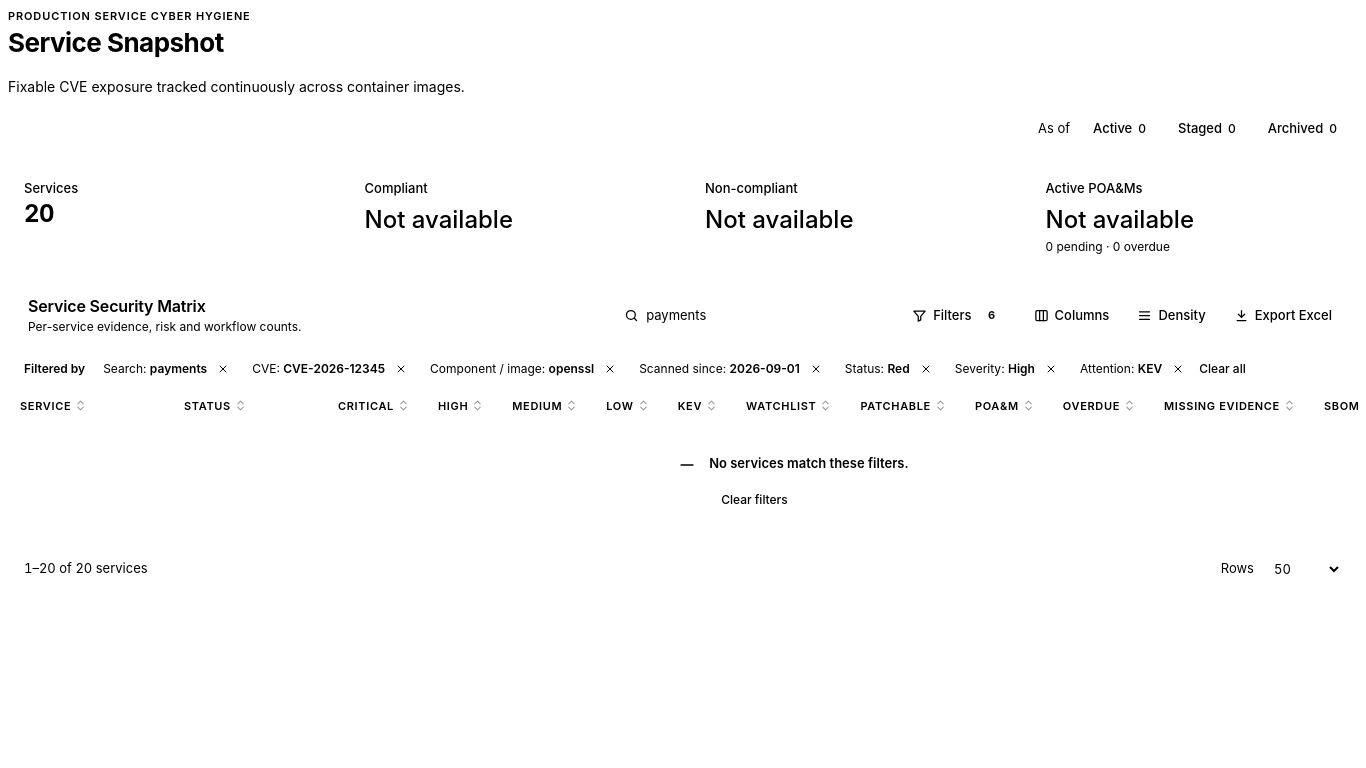
Test: Services security matrix › preserves submitted filters and server portfolio totals independent of filtered rows
This screenshot has width=1366, height=768.
Check: the search field named "Search" holds "payments", box [614,298,894,334]
// One GET form to "/" carries every field, including the toolbar search.
Click the button "Filters 6". click: (959,316)
box: [902,300,1016,332]
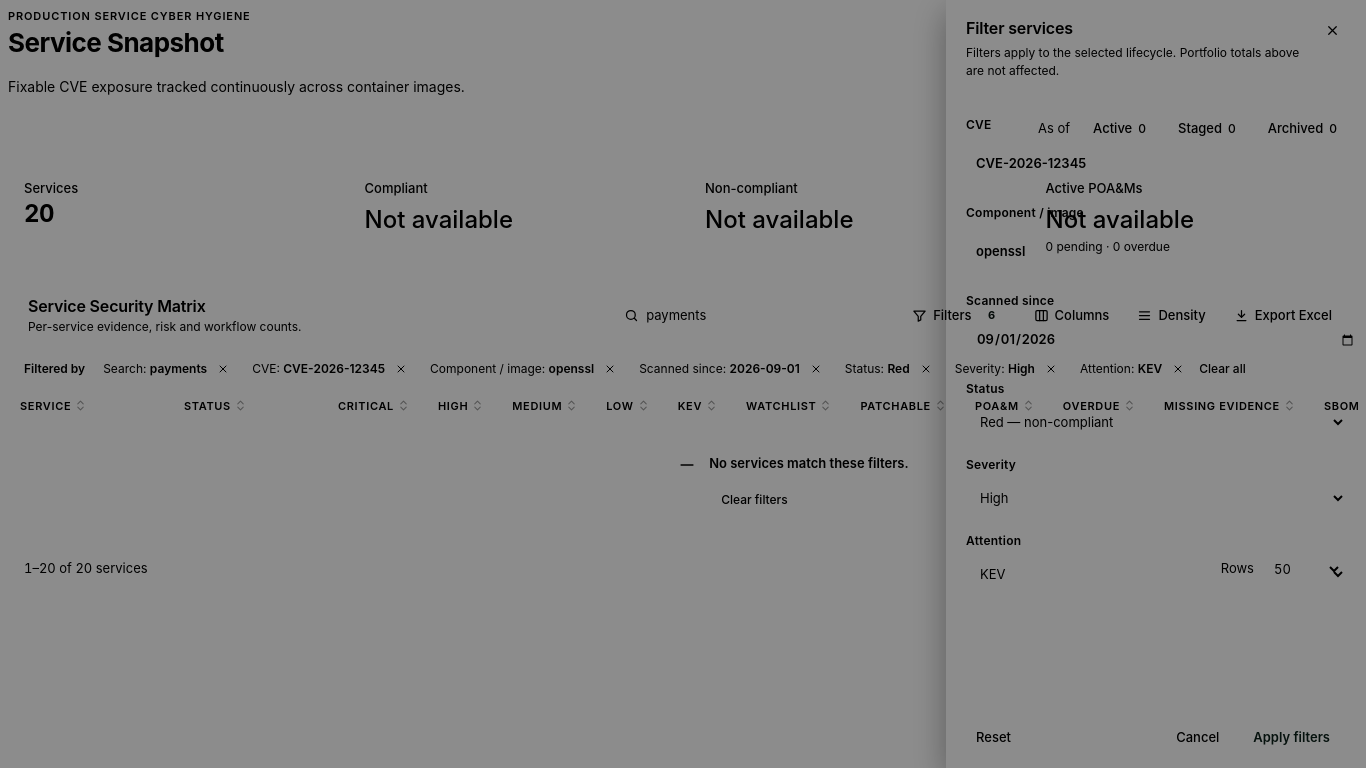
Check: the text "20" is shown, box [24,199,54,228]
Check: the dialog "Filter services" is shown, box [946,0,1365,767]
